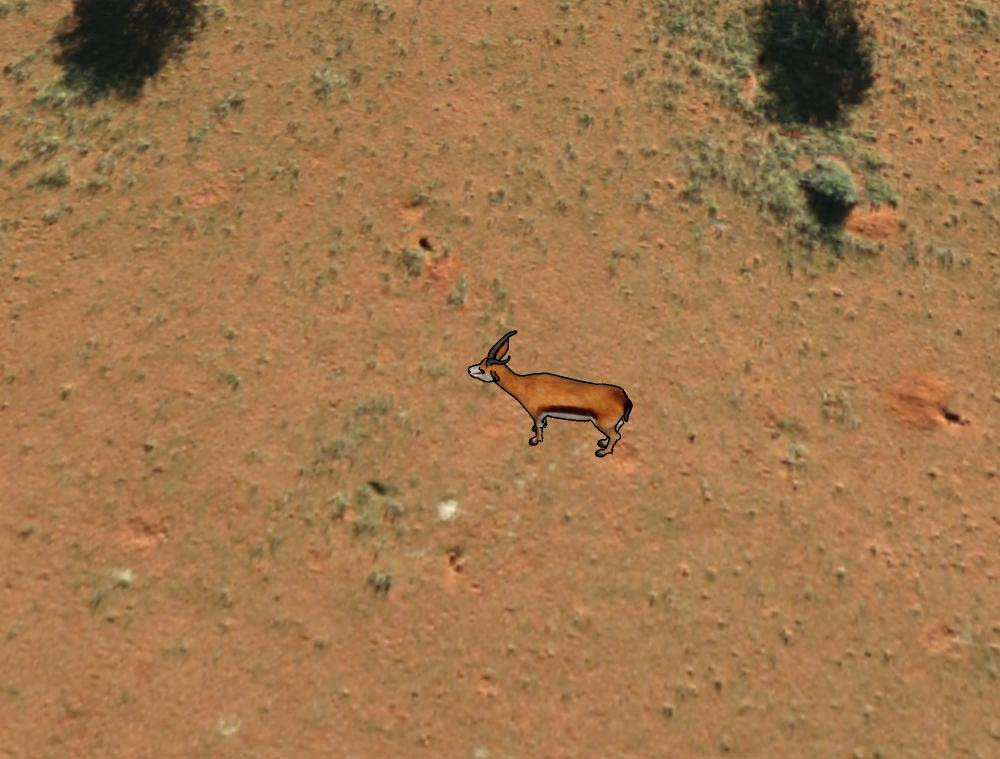springbok: (466, 327, 634, 464)
